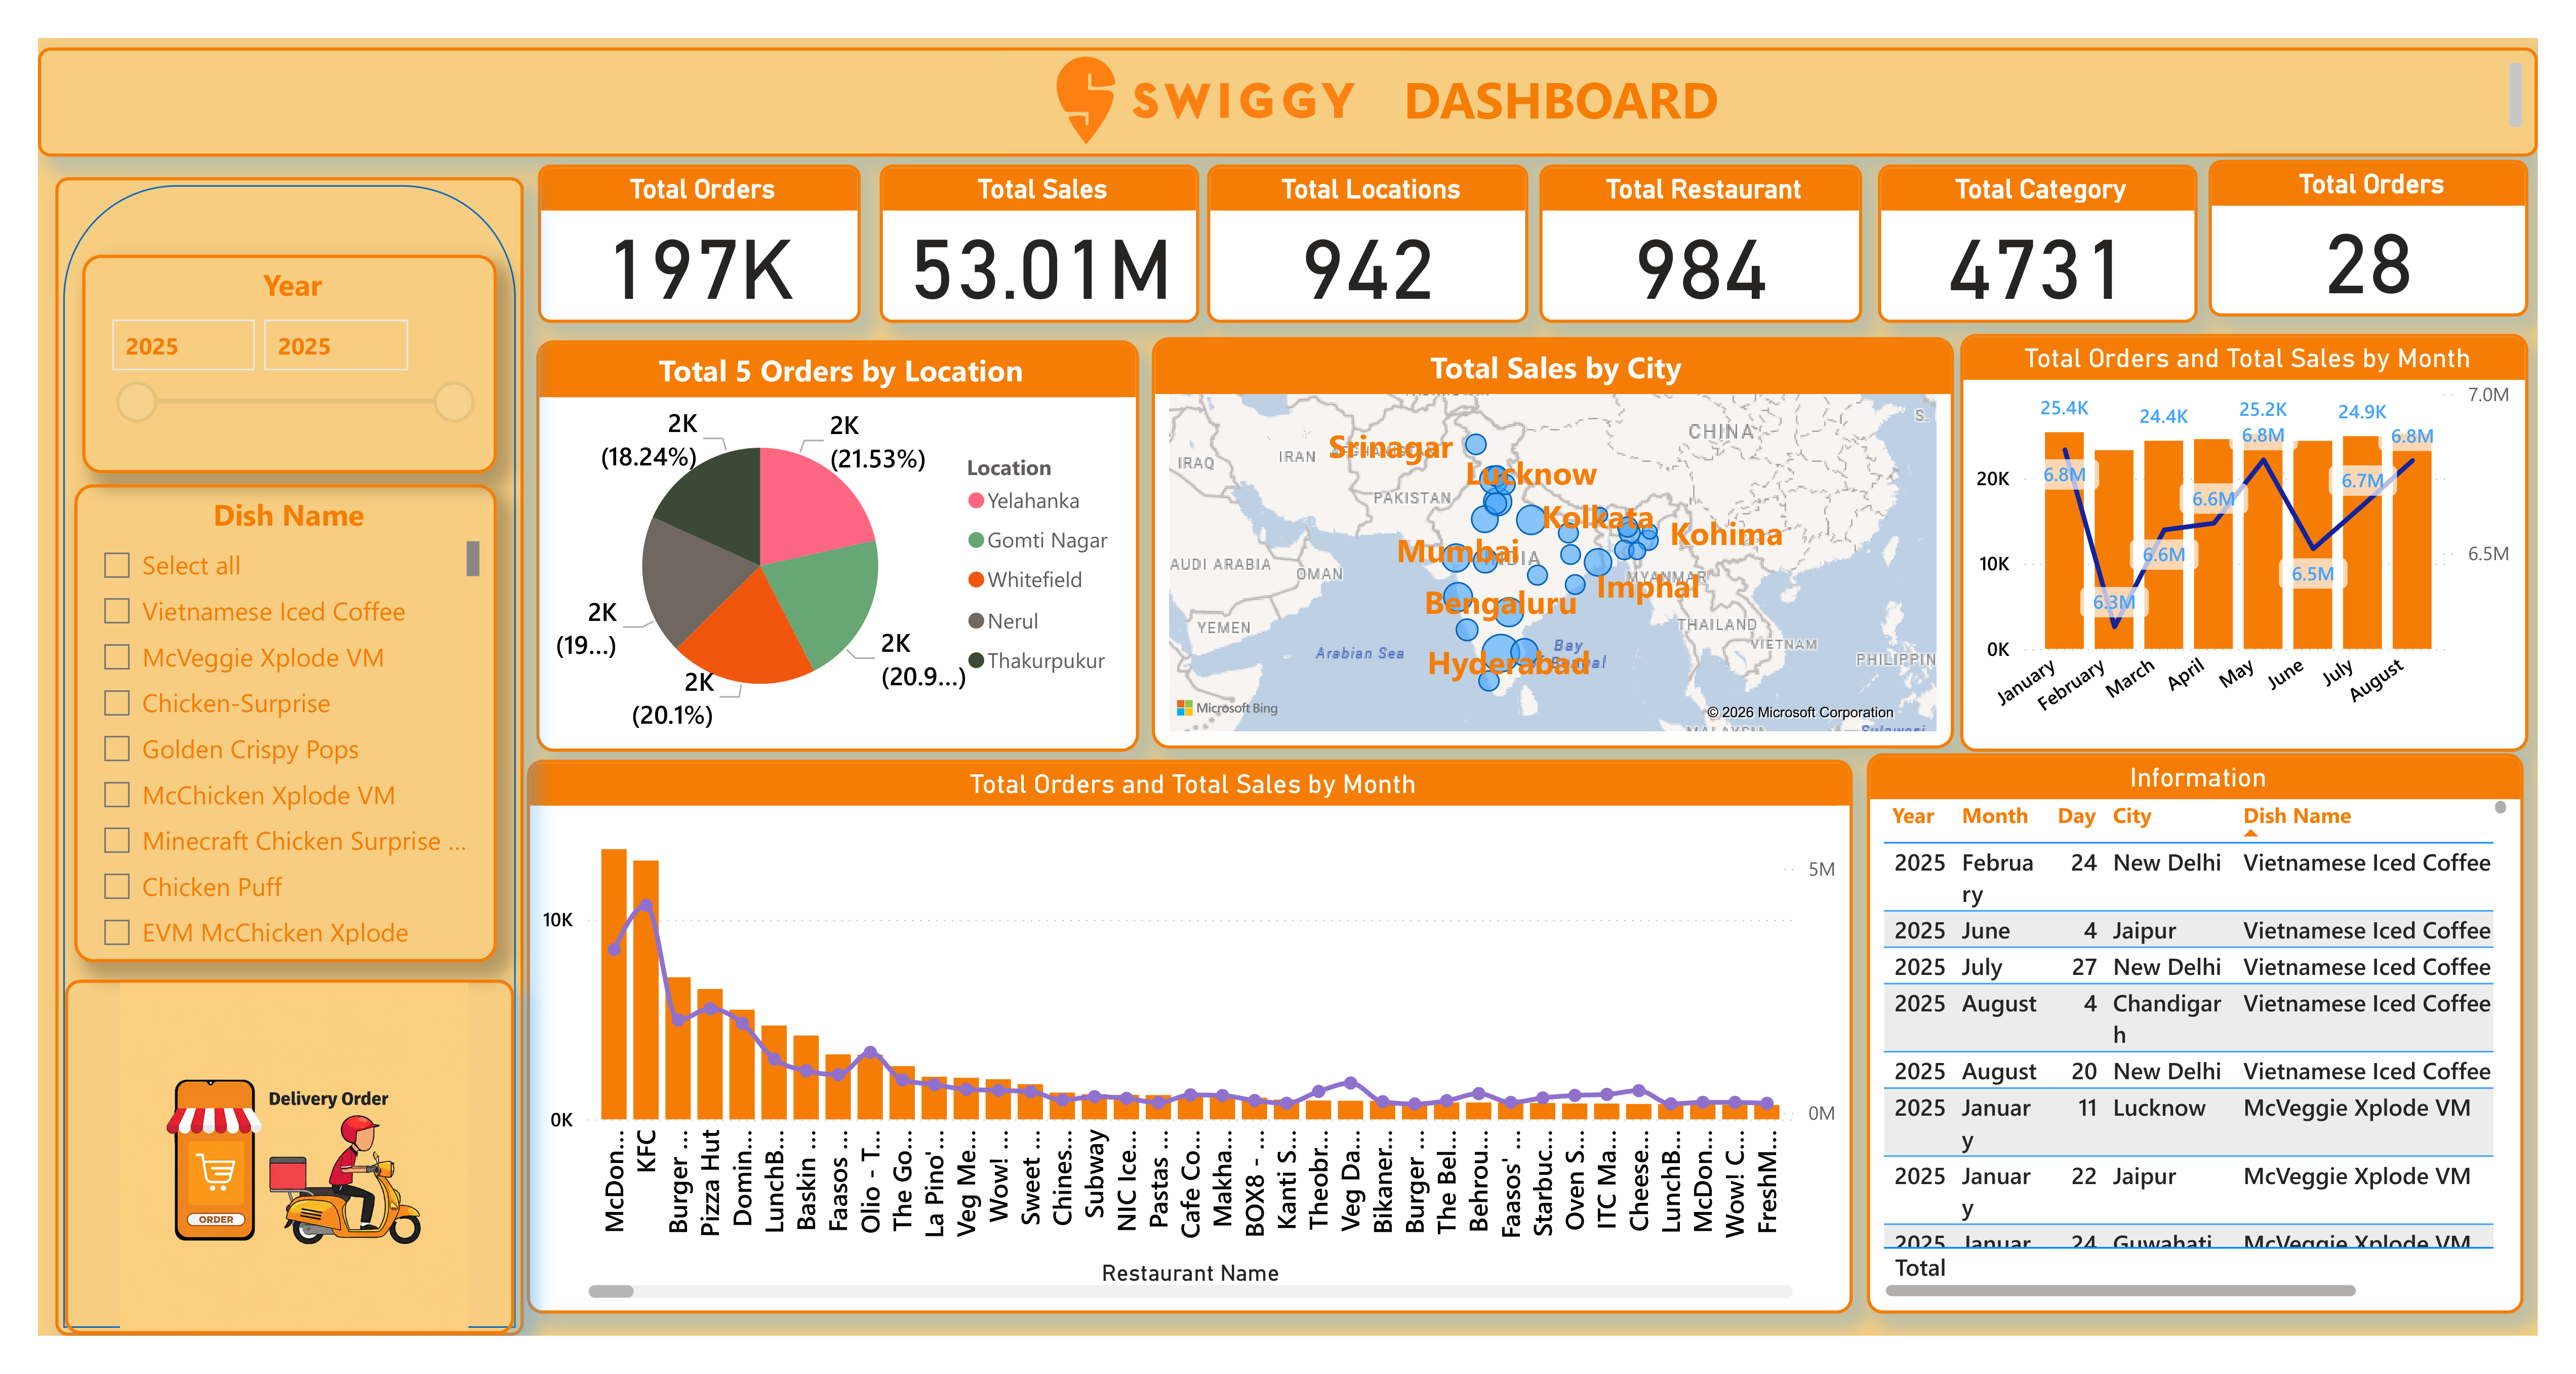

This screenshot's page, from the dashboard's own definition file:
{"tool":"powerbi","page":{"name":"Page 1","canvas":[1580,820],"ordinal":0},"visuals":[{"type":"textbox","box":[0,5.6,1580,69.3],"z":0},{"type":"card","title":"Total Orders","fields":{"Values":["Swiggy Data.Total Orders"]},"box":[316.4,80.5,204.1,99.2],"z":1000},{"type":"card","title":"Total Sales","fields":{"Values":["Swiggy Data.Total SALES"]},"box":[531.7,80.5,202.2,99.2],"z":2000},{"type":"card","title":"Total Locations","fields":{"Values":["Swiggy Data.Total Location"]},"box":[739.5,80.5,202.2,99.2],"z":3000},{"type":"card","title":"Total Restaurant","fields":{"Values":["Swiggy Data.Total Restaurant"]},"box":[949.1,80.5,204.1,99.2],"z":4000},{"type":"card","title":"Total Category","fields":{"Values":["Swiggy Data.Total Category"]},"box":[1162.5,80.5,202.2,99.2],"z":5000},{"type":"card","title":"Total Orders","fields":{"Values":["Swiggy Data.Total city"]},"box":[1372.2,76.8,202.2,99.2],"z":6000},{"type":"pieChart","title":"Total 5 Orders by Location","fields":{"Category":["Swiggy Data.Location"],"Y":["Swiggy Data.Total Orders"]},"box":[314.5,190.9,381.9,260.2],"z":7000},{"type":"map","title":"Total Sales by City","fields":{"Category":["Swiggy Data.City"],"Size":["Swiggy Data.Total SALES"]},"box":[703.9,189.1,507.3,260.2],"z":8000},{"type":"lineStackedColumnComboChart","title":"Total Orders and Total Sales by Month","fields":{"Category":["Swiggy Data.Order Date.Variation.Date Hierarchy.Month"],"Y":["Swiggy Data.Total Orders"],"Y2":["Swiggy Data.Total SALES"]},"box":[1215,187.2,359.4,264],"z":9000},{"type":"lineStackedColumnComboChart","title":"Total Orders and Total Sales by Month","fields":{"Category":["Swiggy Data.Restaurant Name"],"Y":["CountNonNull(Swiggy Data.Dish Name)"],"Y2":["Swiggy Data.Total SALES"]},"box":[308.8,455.7,838,350.3],"z":10000},{"type":"tableEx","title":"Information","fields":{"Values":["Swiggy Data.Order Date.Variation.Date Hierarchy.Year","Swiggy Data.Order Date.Variation.Date Hierarchy.Month","Swiggy Data.Order Date.Variation.Date Hierarchy.Day","Swiggy Data.City","Swiggy Data.Dish Name","Swiggy Data.Total SALES"]},"box":[1156.3,452,414.3,354],"z":11000},{"type":"shape","box":[11.2,88,295.8,732],"z":12000},{"type":"image","box":[612,11.3,252.3,56.5],"z":13000},{"type":"slicer","title":"Year","fields":{"Values":["Swiggy Data.Order Date.Variation.Date Hierarchy.Year"]},"box":[28.2,137.5,261.8,137.5],"z":15000},{"type":"slicer","title":"Dish Name","fields":{"Values":["Swiggy Data.Dish Name"]},"box":[22.6,282.5,267.4,301.3],"z":16000},{"type":"image","box":[16.9,595.1,284.4,224.1],"z":16001}]}

Visuals, with their boxes on the page's 1580x820 design canvas (x1, y1, x2, y2). These are canvas units, not pixel positions in the 2576x1374 screenshot, which may show the page scaled, cropped or inside an application window:
textbox: BBox(0, 6, 1580, 75)
"Total Orders" card: BBox(316, 80, 520, 180)
"Total Sales" card: BBox(532, 80, 734, 180)
"Total Locations" card: BBox(740, 80, 942, 180)
"Total Restaurant" card: BBox(949, 80, 1153, 180)
"Total Category" card: BBox(1162, 80, 1365, 180)
"Total Orders" card: BBox(1372, 77, 1574, 176)
"Total 5 Orders by Location" pieChart: BBox(314, 191, 696, 451)
"Total Sales by City" map: BBox(704, 189, 1211, 449)
"Total Orders and Total Sales by Month" lineStackedColumnComboChart: BBox(1215, 187, 1574, 451)
"Total Orders and Total Sales by Month" lineStackedColumnComboChart: BBox(309, 456, 1147, 806)
"Information" tableEx: BBox(1156, 452, 1571, 806)
shape: BBox(11, 88, 307, 820)
image: BBox(612, 11, 864, 68)
"Year" slicer: BBox(28, 138, 290, 275)
"Dish Name" slicer: BBox(23, 282, 290, 584)
image: BBox(17, 595, 301, 819)
